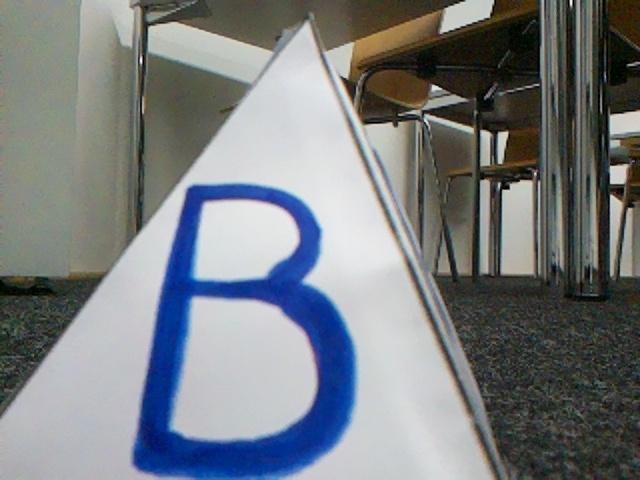B: (0, 11, 505, 478)
